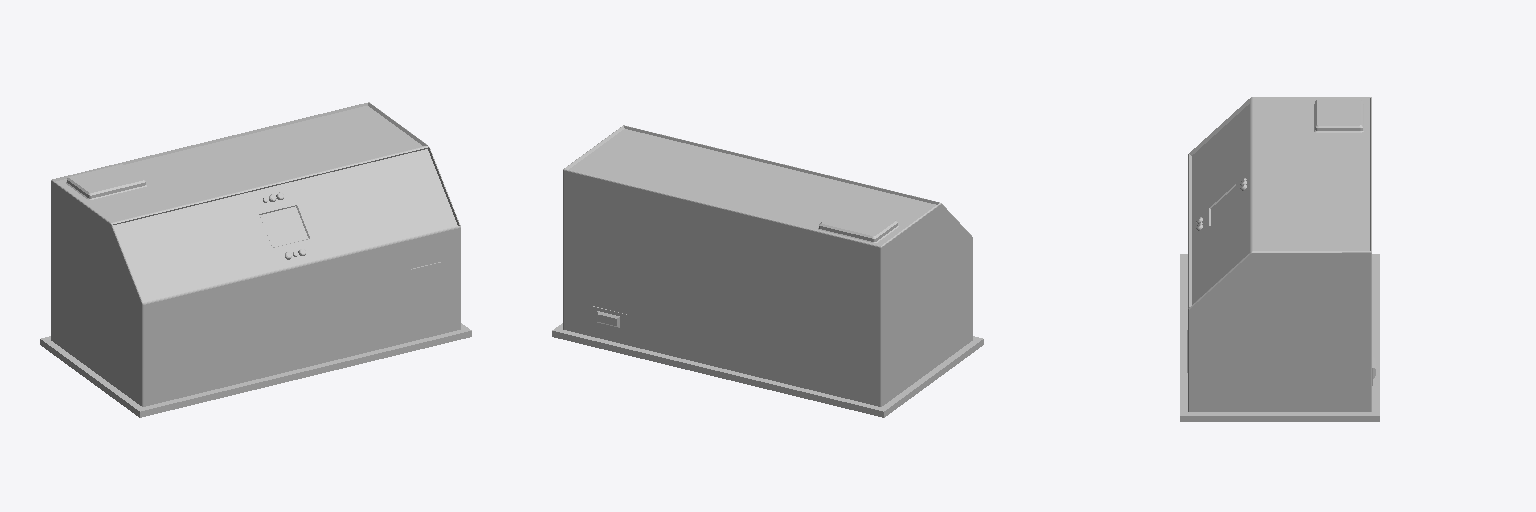
Rendered from Factory Machine.obj.
3 views of the same model, side by side, from view 1: azimuth 30°, elevation 25°; view 2: azimuth 150°, elevation 25°; view 3: azimuth 270°, elevation 25° (orthographic).
Visible parts, largest first — view 1: Factory_Machine_Cube; view 2: Factory_Machine_Cube; view 3: Factory_Machine_Cube.
Part boxes in pixels (bbox=[...]): Factory_Machine_Cube: bbox=[40, 102, 471, 417]; Factory_Machine_Cube: bbox=[552, 125, 983, 417]; Factory_Machine_Cube: bbox=[1180, 97, 1379, 421].
Size of the model in its own units: 4.17 by 2.04 by 2.17.